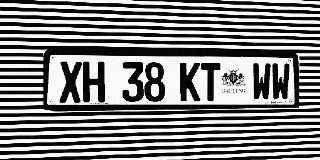3: (122, 62, 143, 102)
8: (144, 62, 165, 102)
H: (83, 61, 105, 102)
K: (180, 62, 200, 101)
T: (201, 62, 220, 101)
W: (252, 63, 271, 101), (271, 63, 290, 100)
X: (59, 61, 82, 103)
